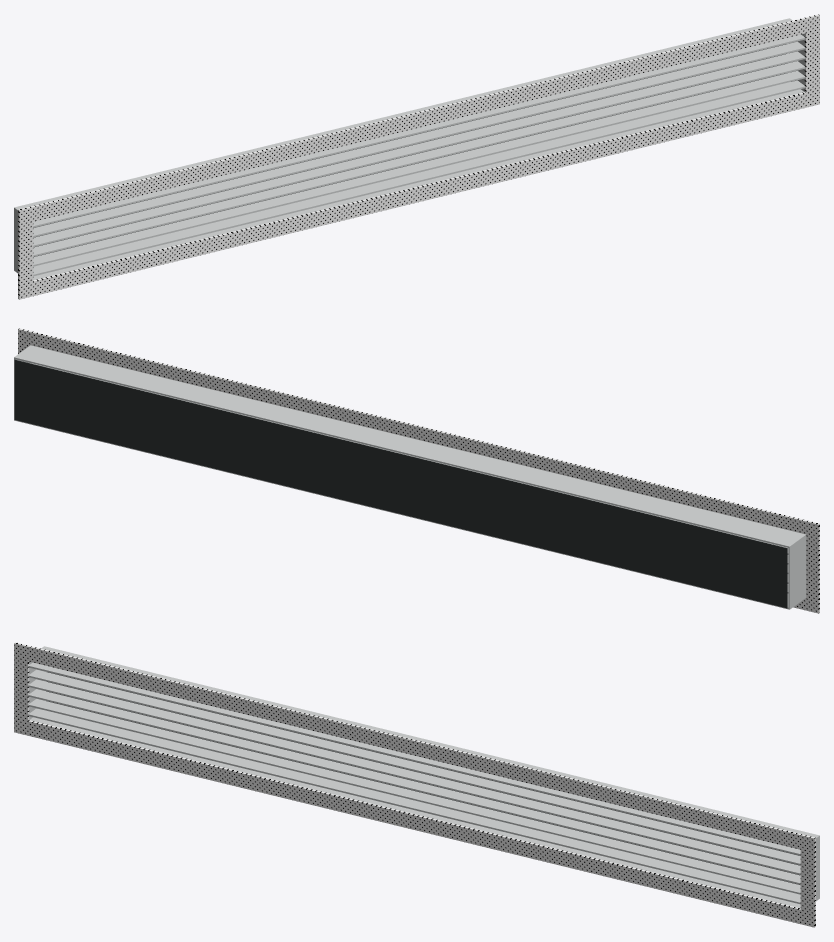
File: ecoclima-ebls-1000x75.glb
3 renders of one model, top to bottom at view 1: azimuth 30°, elevation 25°; view 2: azimuth 150°, elevation 25°; view 3: azimuth 330°, elevation 25°, orthographic.
Parts seen in each view (by area): view 1: Profile_cornice, Profile_cornice.001, Profile_barra.001, Profile_barra.002, Profile_barra, Profile_barra.003, Profile_barra.004, Profile_barra.005, Profile_ritorno.001, Profile_ritorno, Interno, Profile_cornice.002 (+1 smaller); view 2: Interno, Profile_ritorno, Profile_cornice, Profile_ritorno.001, Profile_ritorno.002, Profile_barra.004, Profile_cornice.002; view 3: Profile_cornice, Profile_cornice.001, Profile_barra.001, Profile_barra.002, Profile_barra, Profile_barra.003, Profile_barra.004, Profile_barra.005, Profile_ritorno.001, Profile_ritorno, Interno, Profile_cornice.003 (+1 smaller).
Boxes of the visible parts, bbox=[...] form: Profile_cornice: bbox=[18, 14, 819, 224]; Profile_cornice.001: bbox=[18, 90, 819, 299]; Profile_barra.001: bbox=[33, 71, 805, 266]; Profile_barra.002: bbox=[33, 61, 805, 256]; Profile_barra: bbox=[33, 80, 805, 276]; Profile_barra.003: bbox=[33, 51, 805, 247]; Profile_barra.004: bbox=[33, 41, 805, 237]; Profile_barra.005: bbox=[33, 34, 805, 227]; Profile_ritorno.001: bbox=[14, 82, 804, 280]; Profile_ritorno: bbox=[14, 18, 792, 211]; Interno: bbox=[33, 44, 787, 256]; Profile_cornice.002: bbox=[18, 222, 33, 284]; Interno: bbox=[14, 359, 787, 608]; Profile_ritorno: bbox=[14, 345, 806, 548]; Profile_cornice: bbox=[18, 328, 819, 538]; Profile_ritorno.001: bbox=[14, 419, 806, 609]; Profile_ritorno.002: bbox=[788, 536, 806, 607]; Profile_barra.004: bbox=[30, 363, 788, 554]; Profile_cornice.002: bbox=[806, 536, 819, 598]; Profile_cornice: bbox=[14, 642, 815, 852]; Profile_cornice.001: bbox=[14, 718, 815, 927]; Profile_barra.001: bbox=[28, 699, 800, 894]; Profile_barra.002: bbox=[28, 689, 800, 884]; Profile_barra: bbox=[28, 708, 800, 904]; Profile_barra.003: bbox=[28, 679, 800, 875]; Profile_barra.004: bbox=[28, 669, 800, 865]; Profile_barra.005: bbox=[28, 662, 800, 855]; Profile_ritorno.001: bbox=[29, 710, 819, 908]; Profile_ritorno: bbox=[41, 646, 819, 839]; Interno: bbox=[46, 672, 800, 884]; Profile_cornice.003: bbox=[800, 850, 815, 912].
Size of the model in its own units: 1.03 by 0.11 by 0.042.
3 materials, 1 textured.
